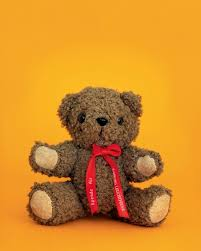teddy: (16, 82, 182, 236)
